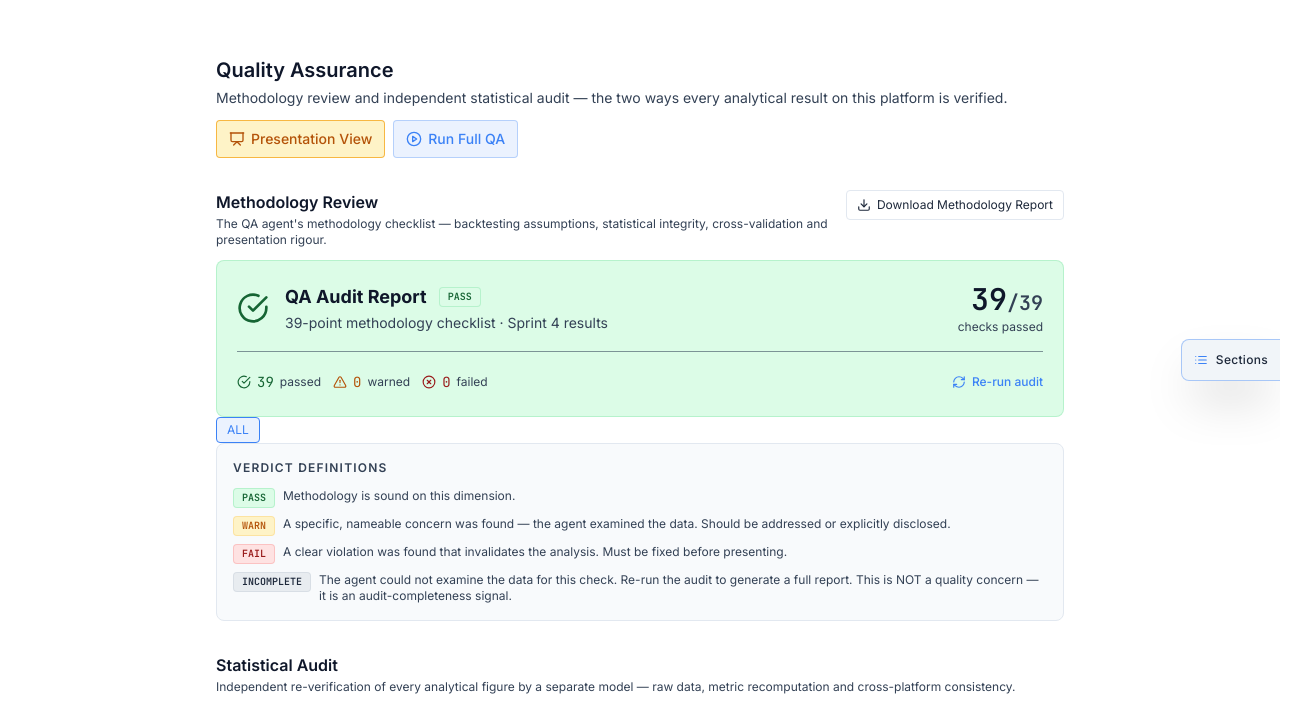
Scenario: QAHub — Presentation View certificate › shows OVERALL WARN (amber) when warnings are present but no failures
Click the button "Presentation View" at (301, 139), box [216,120,385,158]
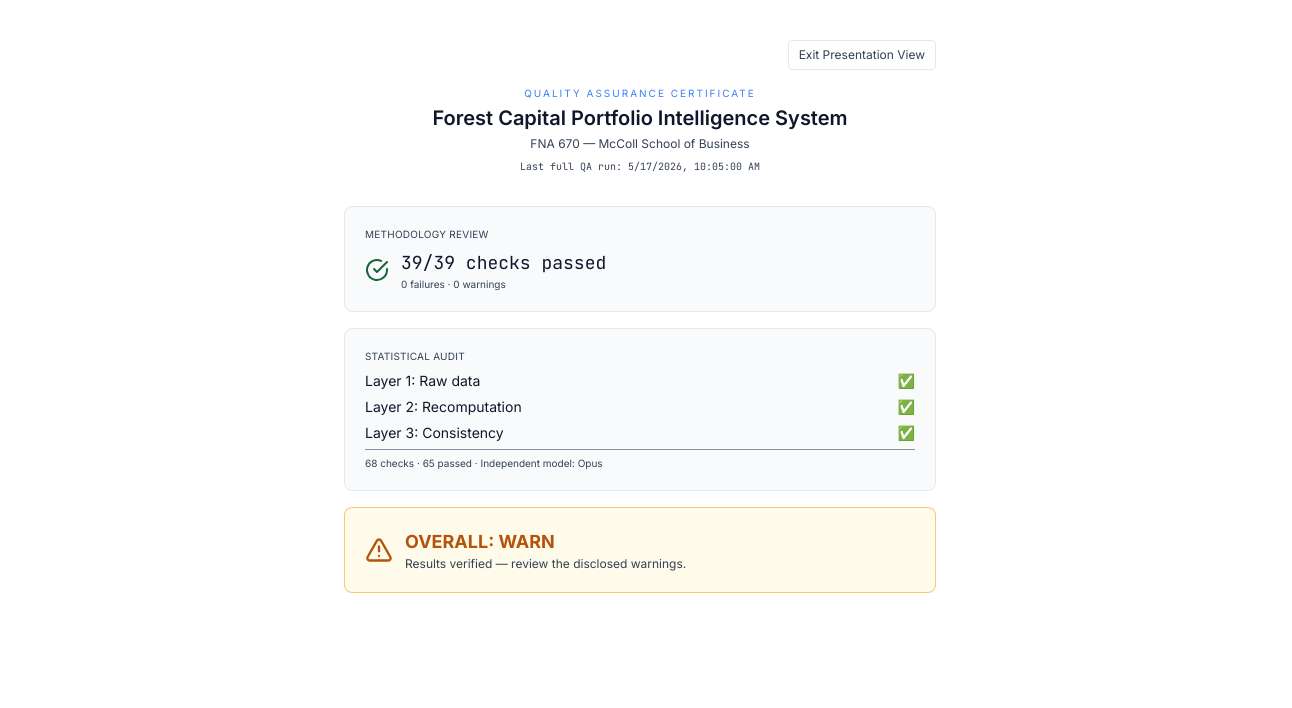
Expected: the text "OVERALL: WARN" is shown, [405,531,555,552]
